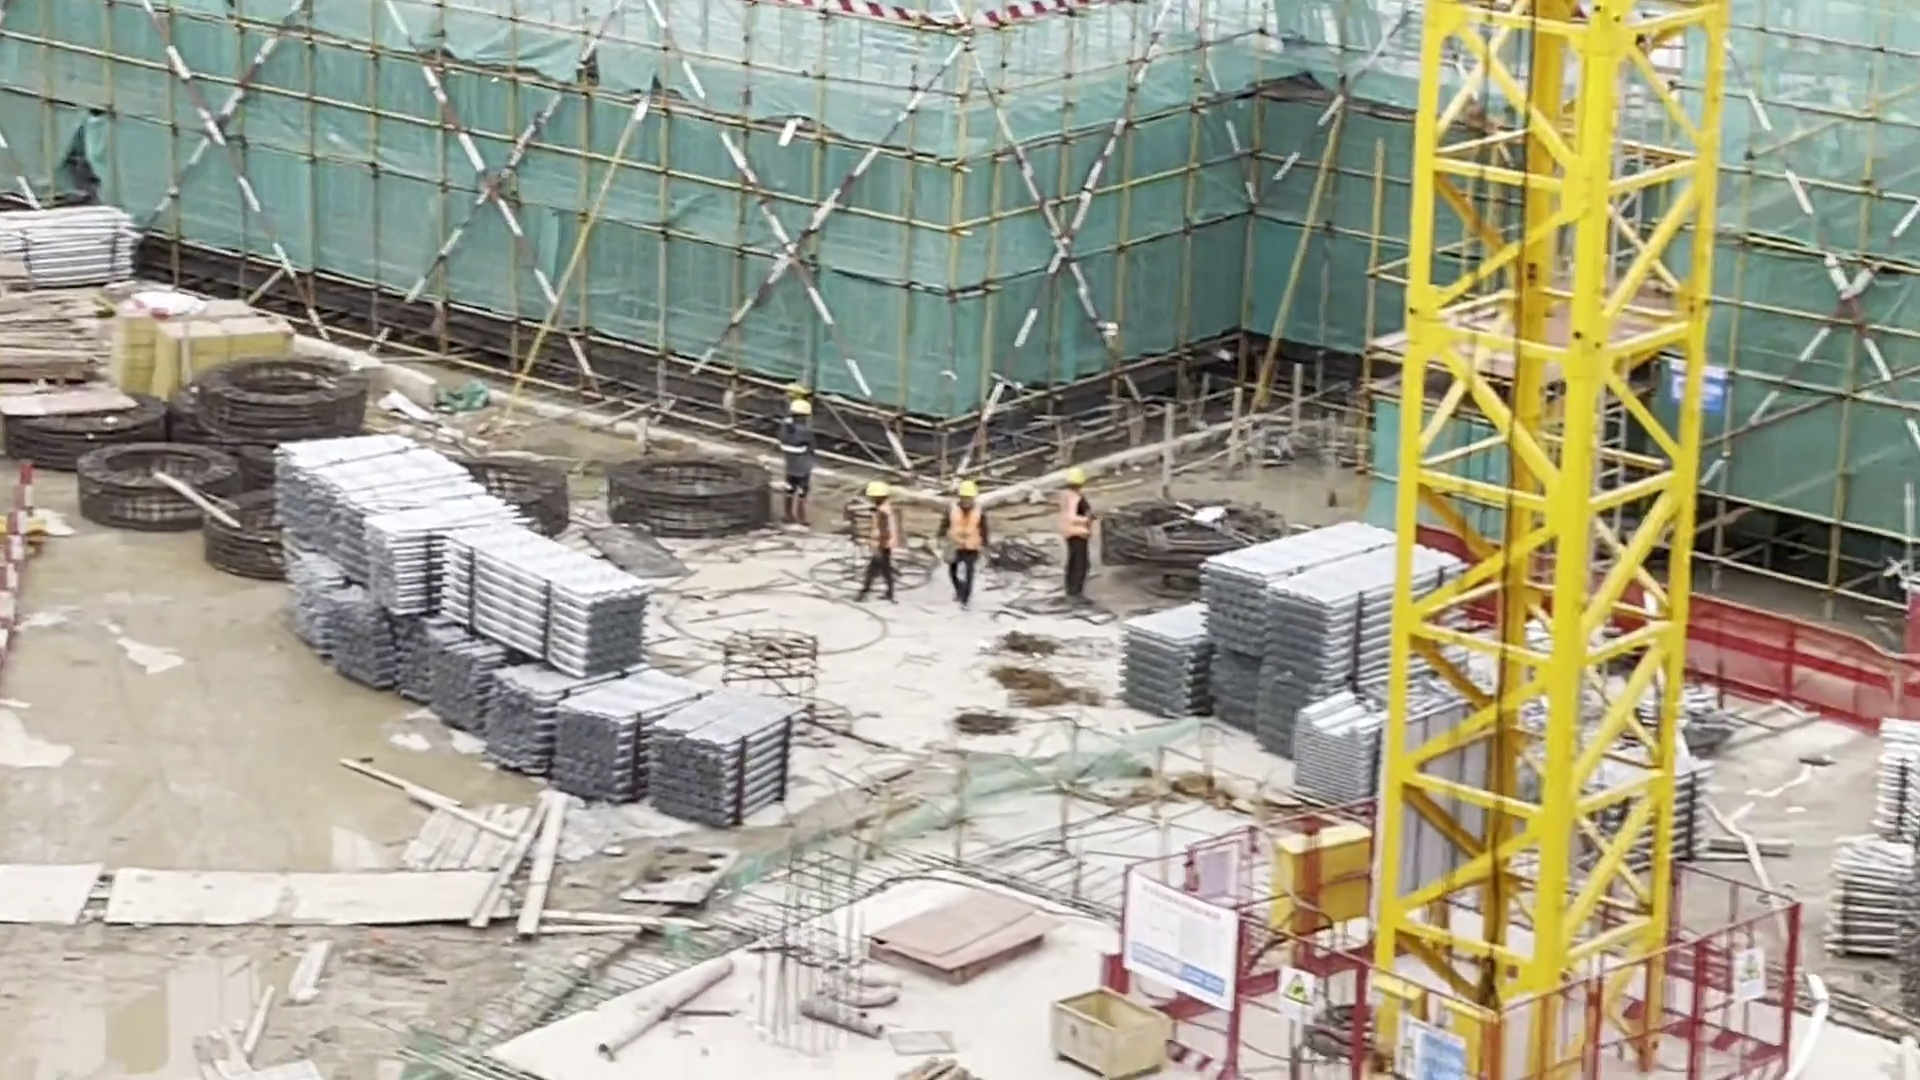board: (871, 896, 1052, 976)
fence: (1693, 599, 1920, 718)
hopper: (1058, 985, 1173, 1076)
person: (778, 397, 821, 530), (940, 480, 986, 604), (855, 477, 898, 608), (1056, 468, 1093, 604)
scaffold: (275, 431, 800, 822), (1124, 529, 1389, 807)
vest: (945, 502, 982, 558), (1061, 486, 1088, 544), (870, 504, 896, 550)
